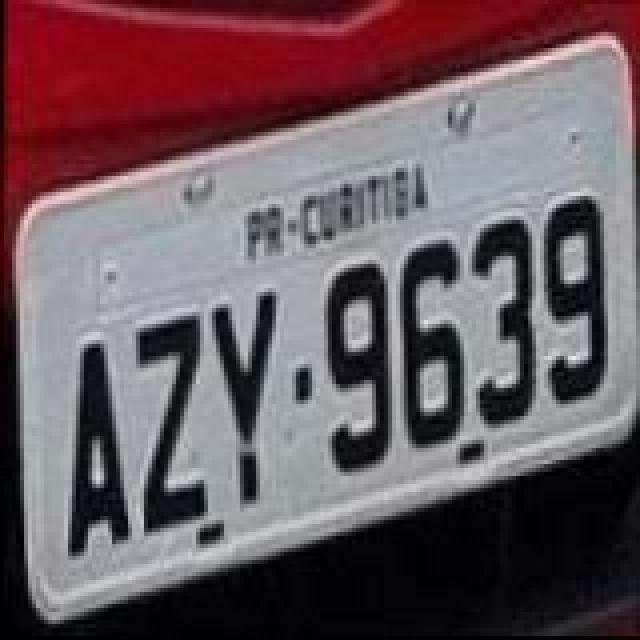3: (470, 214, 542, 430)
6: (398, 240, 470, 456)
9: (320, 256, 396, 476), (538, 192, 610, 408)
A: (64, 340, 136, 564)
Y: (204, 288, 276, 504)
Z: (128, 318, 208, 542)
